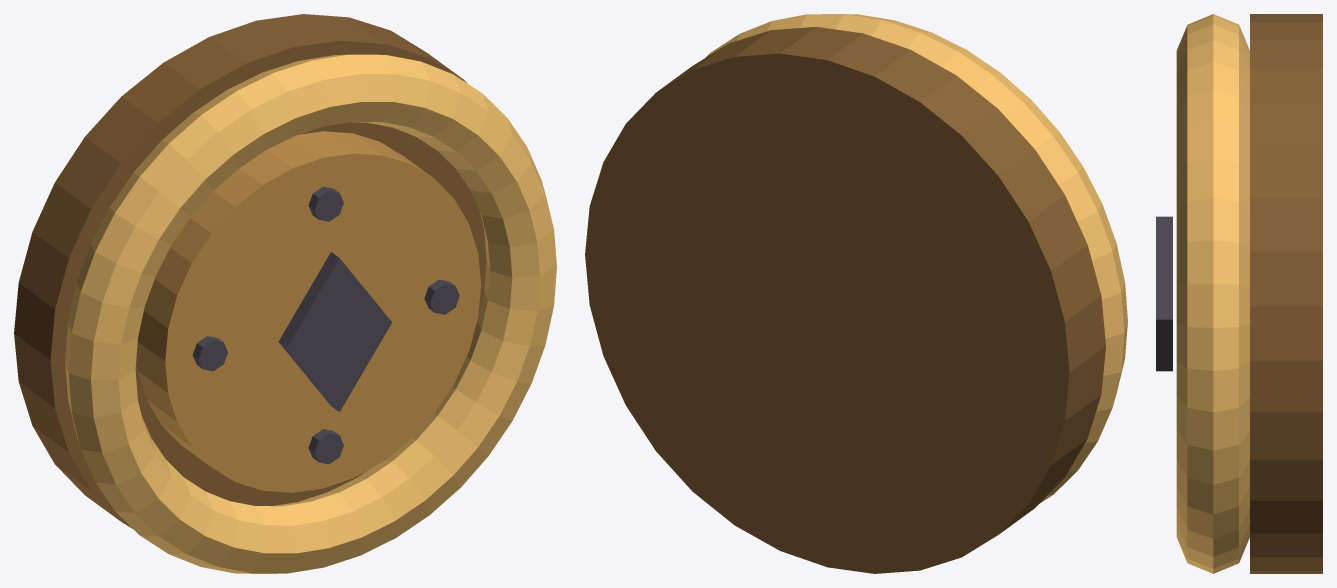
Rendered from SM_Vault_Cue.fbx.
The picture shows the model from 3 angles, left to right: view 1: azimuth 30°, elevation 25°; view 2: azimuth 150°, elevation 25°; view 3: azimuth 270°, elevation 25°; orthographic projection.
Parts seen in each view (by area): view 1: SM_Vault_Cue; view 2: SM_Vault_Cue; view 3: SM_Vault_Cue.
Part boxes in pixels (box(x1,y1,x2,y2)): SM_Vault_Cue: box(14, 14, 556, 573); SM_Vault_Cue: box(585, 14, 1127, 573); SM_Vault_Cue: box(1156, 14, 1322, 573).
Bounding box in the file's own units: 46 × 13.7 × 46.
